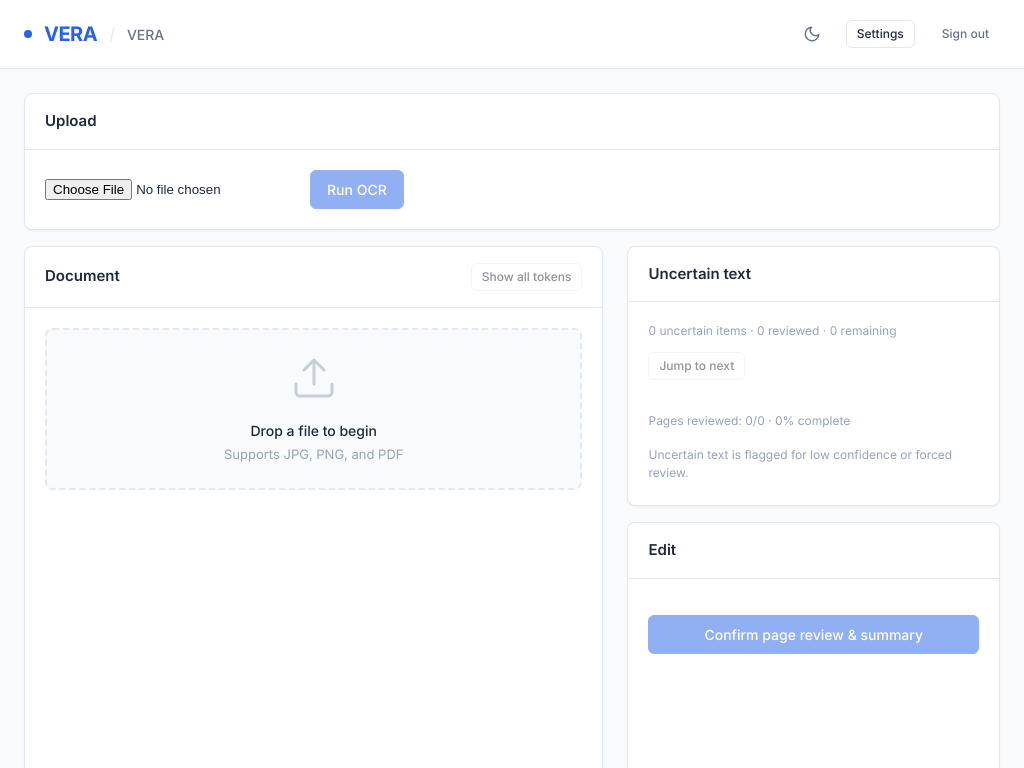
Test case: Settings AI toggle › disables AI summaries toggle when Ollama is unreachable
What coordinates should you click on to do the following:
click the button "Settings"
I would click on:
 (880, 34)
Its box is [846,20,915,48].
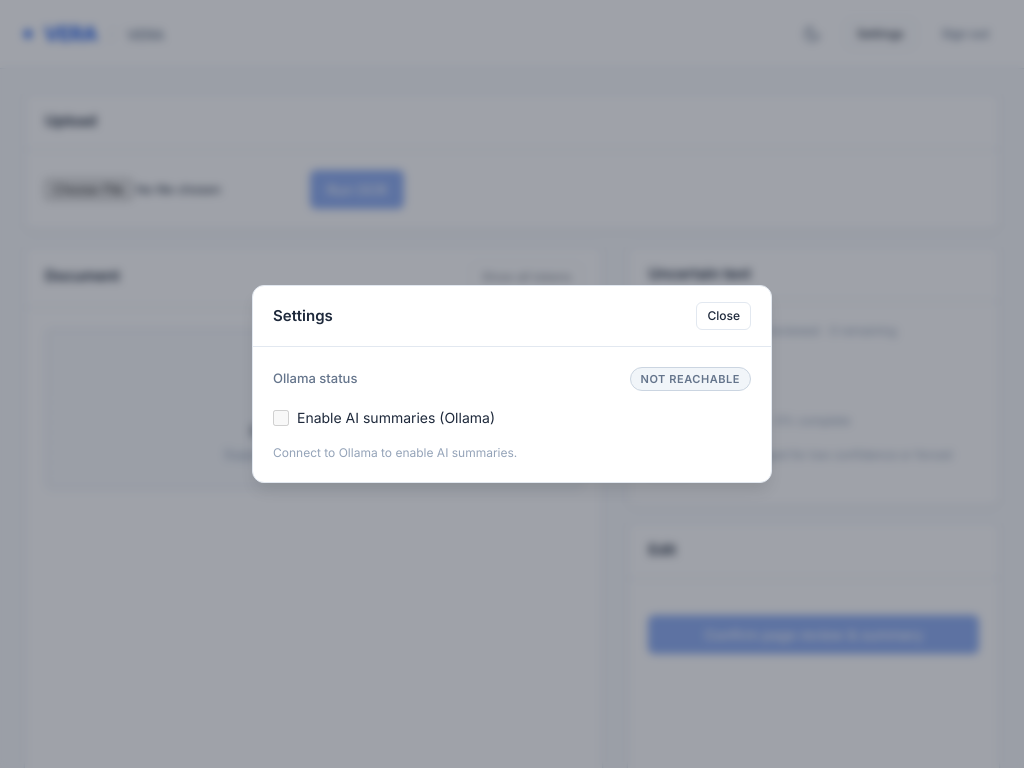
Check: the checkbox labelled "Enable AI summaries (Ollama)" is disabled, box [273,410,289,426]
